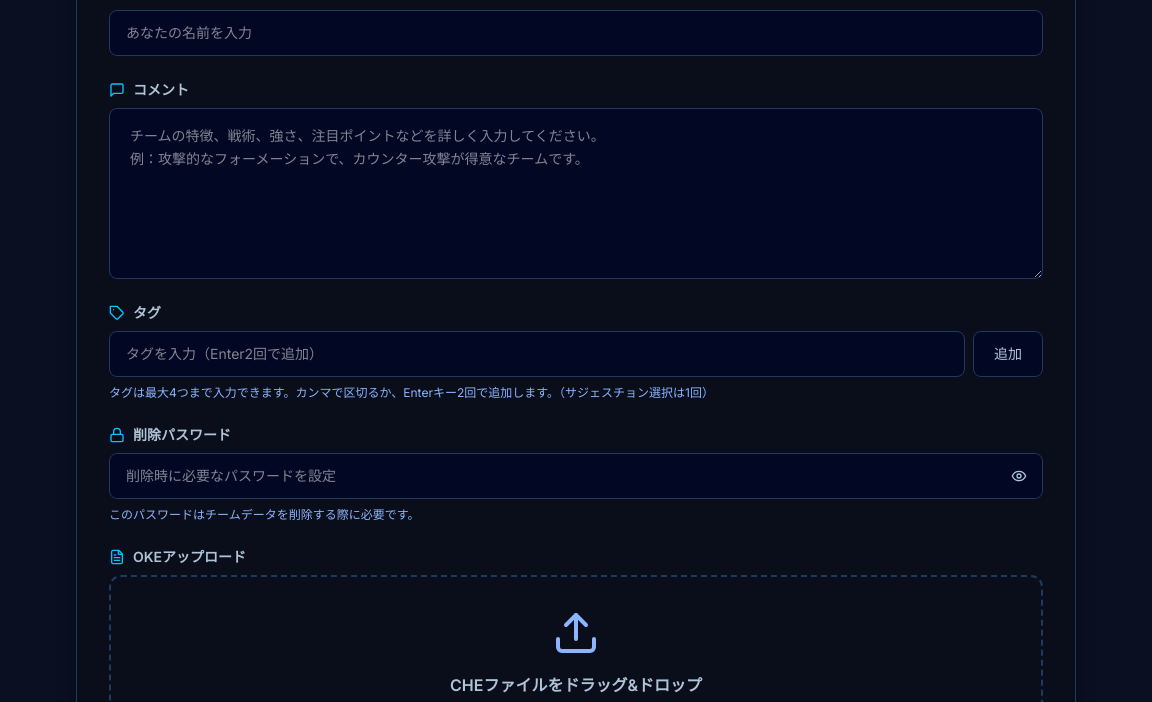
Test: FileUploadForm › Tag Suggestion Feature › should switch from checkbox selector to suggestions when typing
(page scrolled)
// 最初にフォーカスしてチェックボックスを表示
Step 1. Click the field with placeholder "タグを入力（Enter2回で追加）" → (537, 354), box [109, 331, 965, 377]
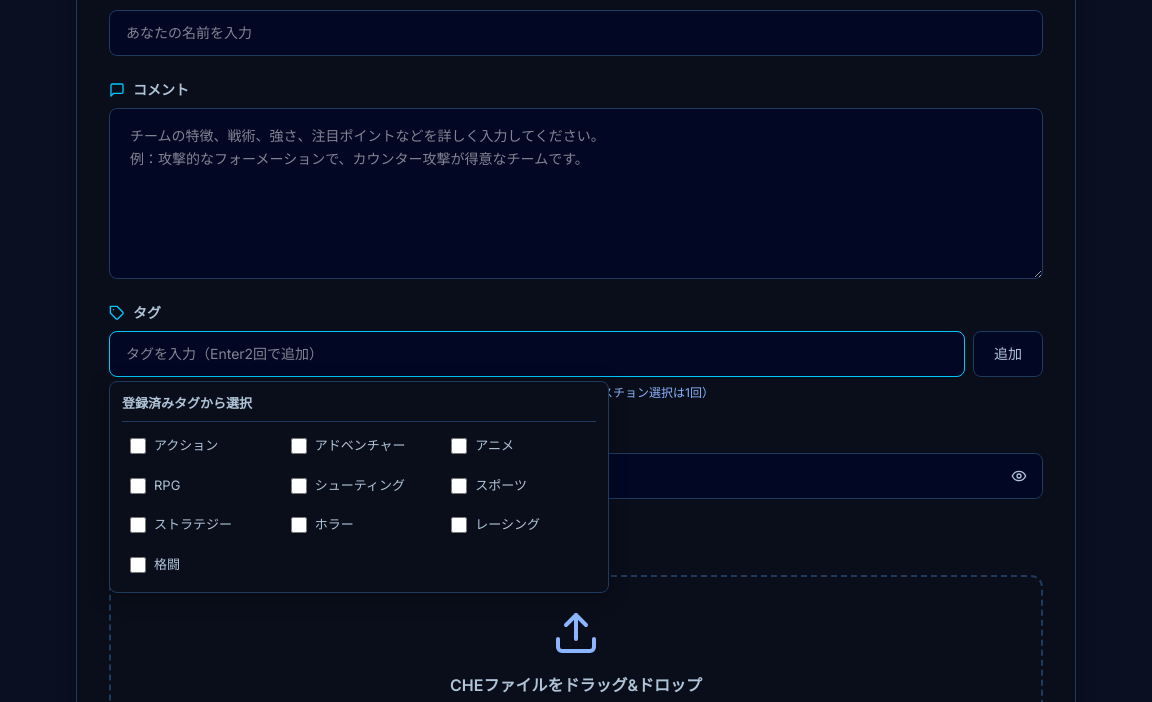
Expected: the text "登録済みタグから選択" is shown, [122, 394, 596, 422]
Step 2. Type "ア" into the field with placeholder "タグを入力（Enter2回で追加）" → (537, 354), box [109, 331, 965, 377]
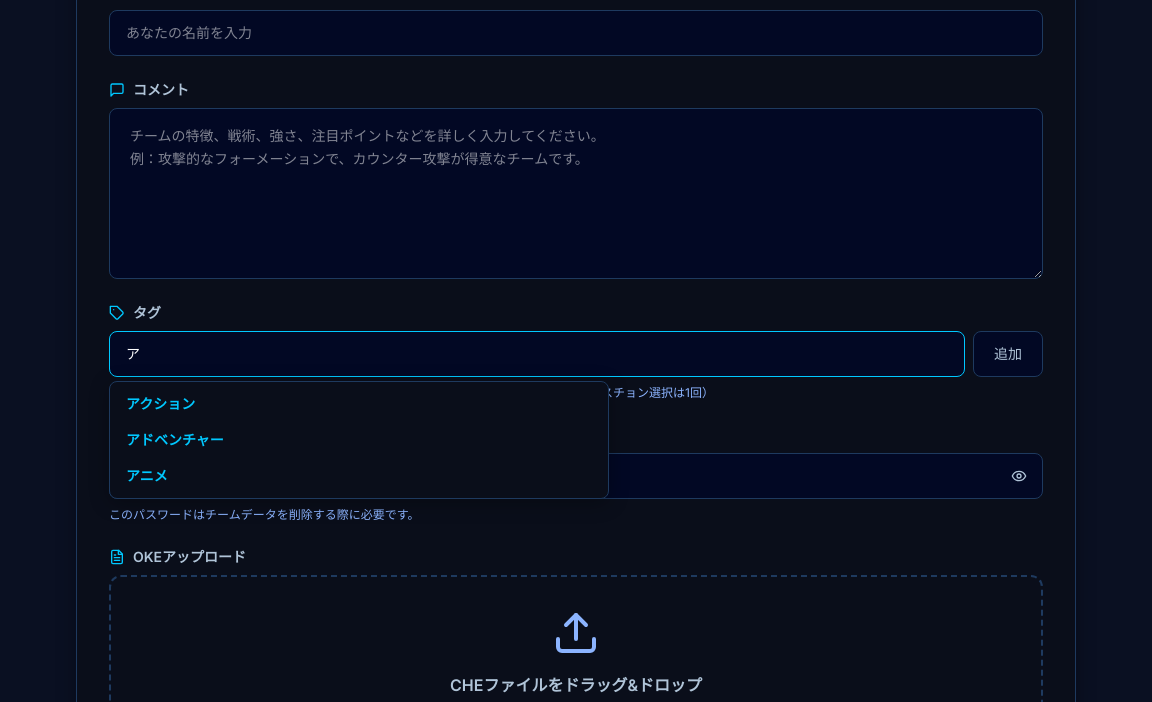
Expected: the text "アクション" is shown, [126, 395, 195, 412]
Expected: the text "登録済みタグから選択" is gone
